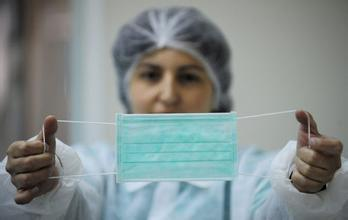mask: (110, 60, 251, 203)
